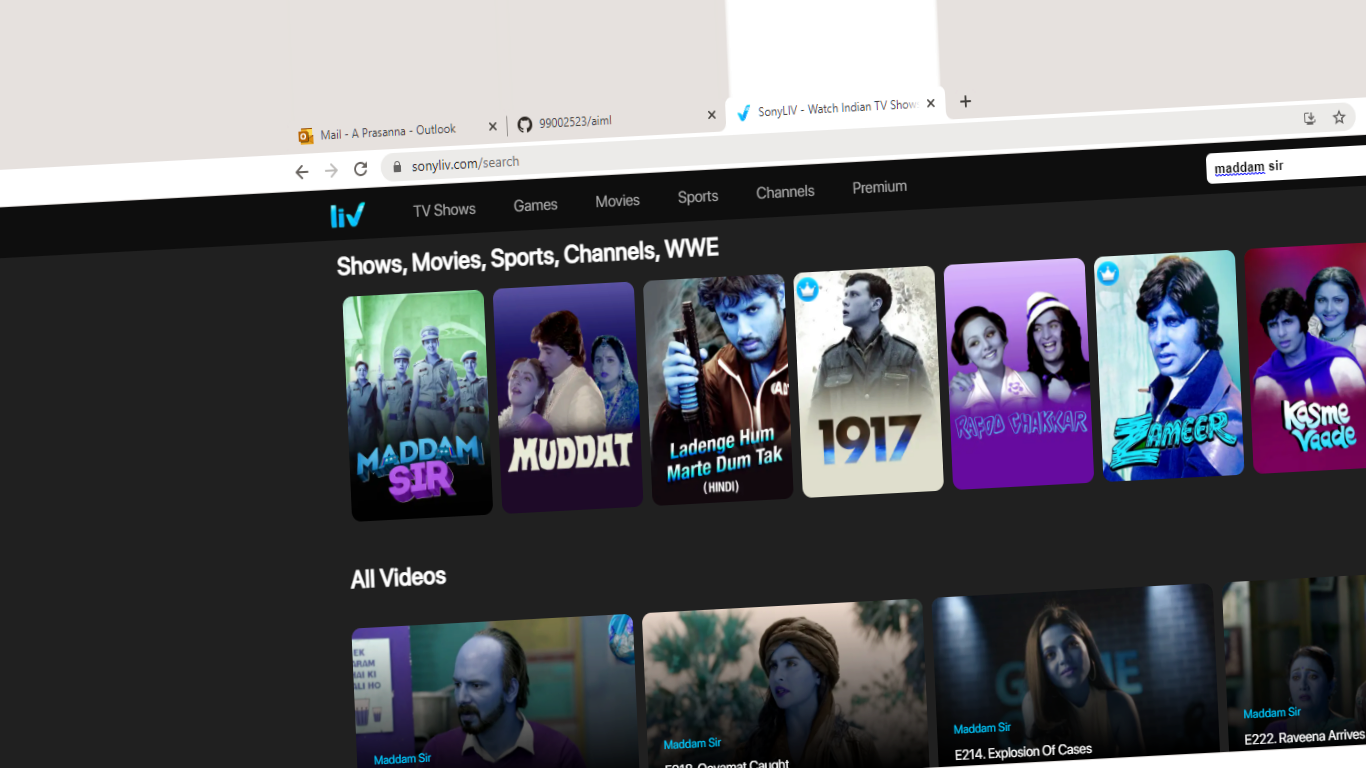resultsfound: (330, 240, 748, 281)
searchtextbox: (1188, 142, 1363, 186)
